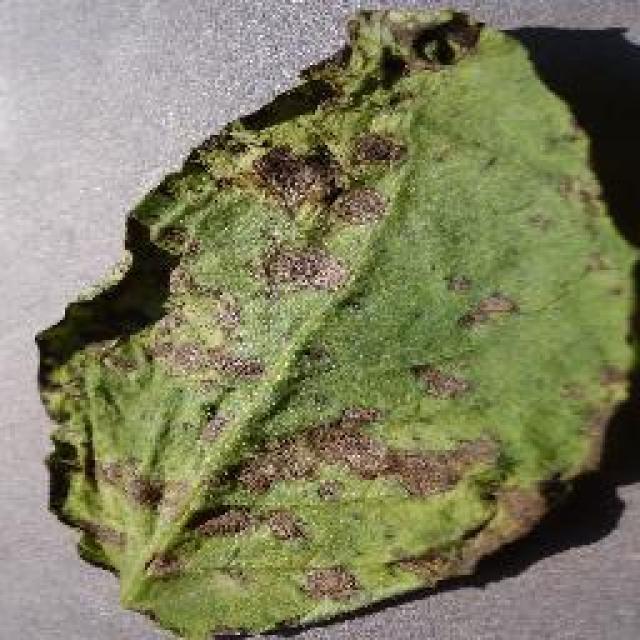early_blight: (30, 2, 638, 638)
